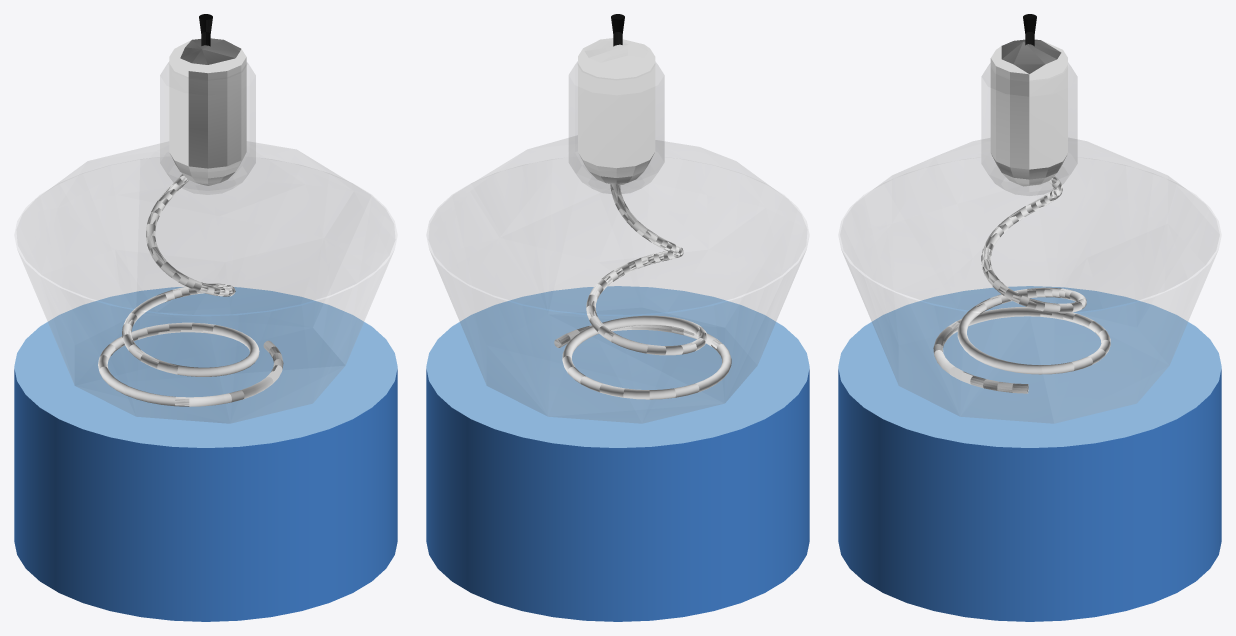
The model's file is 酒精灯.FBX.
The picture shows the model from 3 angles, left to right: view 1: azimuth 30°, elevation 25°; view 2: azimuth 150°, elevation 25°; view 3: azimuth 270°, elevation 25°; orthographic projection.
Parts seen in each view (by area): view 1: Cylinder001, Sphere001; view 2: Cylinder001, Sphere001; view 3: Cylinder001, Sphere001.
Part boxes in pixels (x1=…): Cylinder001: x1=14, y1=286, x2=397, y2=621; Sphere001: x1=16, y1=14, x2=395, y2=423; Cylinder001: x1=426, y1=286, x2=809, y2=621; Sphere001: x1=428, y1=14, x2=807, y2=423; Cylinder001: x1=838, y1=286, x2=1221, y2=621; Sphere001: x1=840, y1=14, x2=1219, y2=423.
Bounding box in the file's own units: 800 × 1206 × 800.
